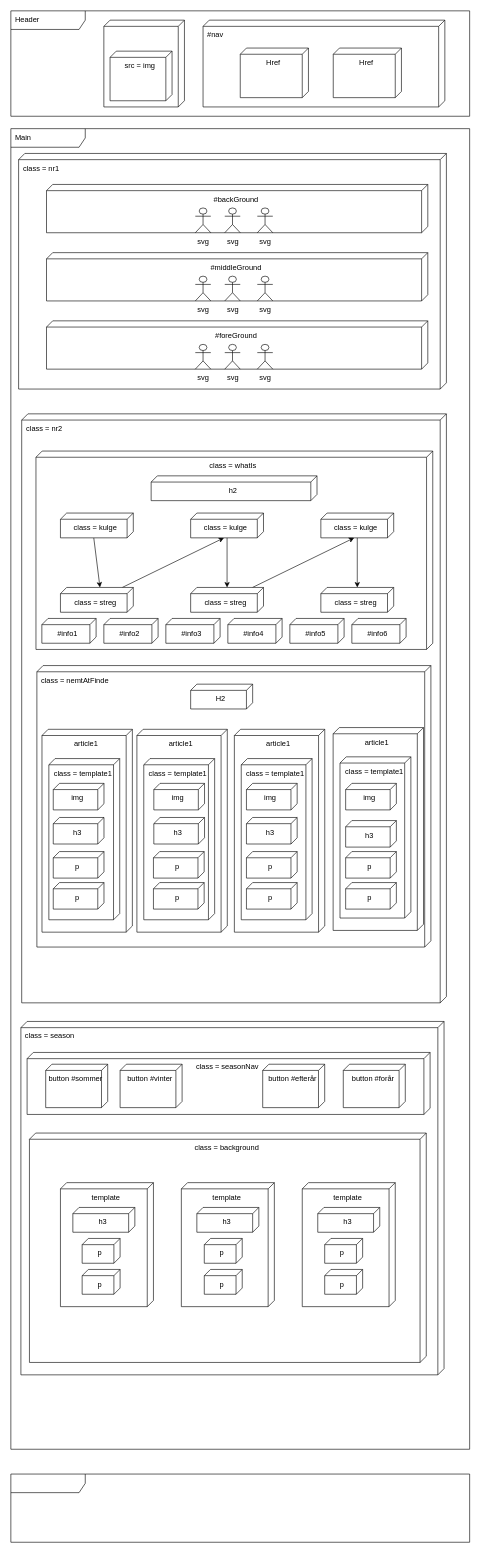
Image size: 481x1553. Some labels were removed from this diagram. Each missing label, with the centre of its shape:
"div - #logo" goes at (143,63).
"footer" goes at (240,1507).
